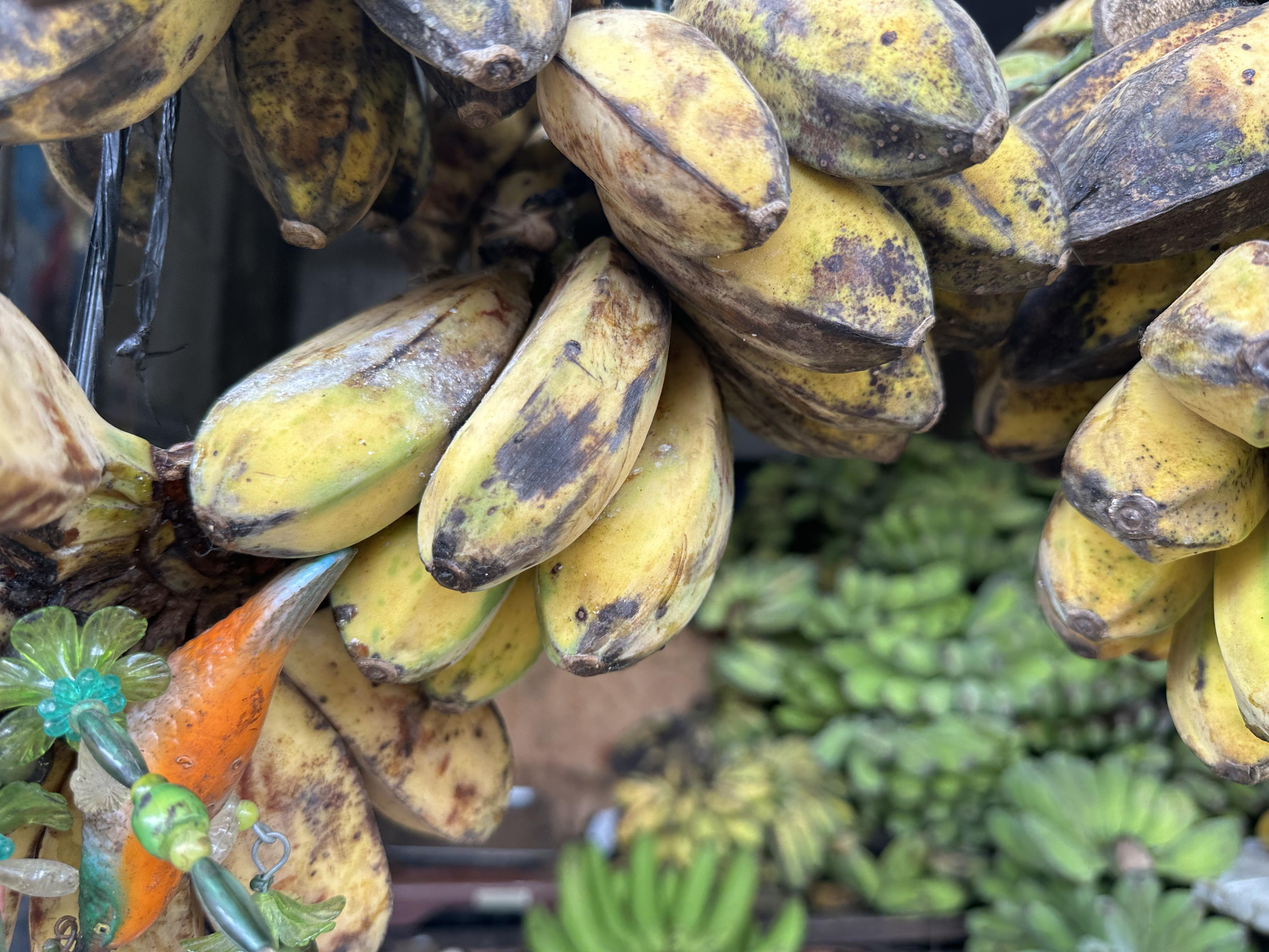ripe: (535, 0, 1072, 466)
underripe: (186, 236, 733, 711), (985, 5, 1269, 469), (1031, 242, 1269, 790)
